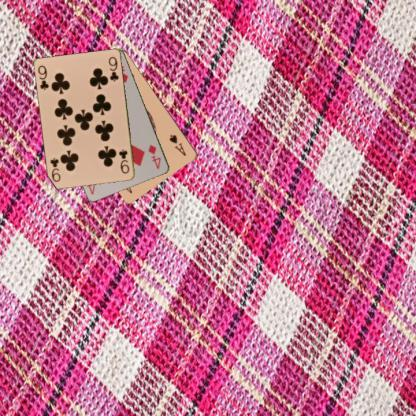4d: (146, 142, 162, 171)
9c: (116, 147, 131, 175), (36, 63, 50, 91)
As: (167, 132, 188, 157)
